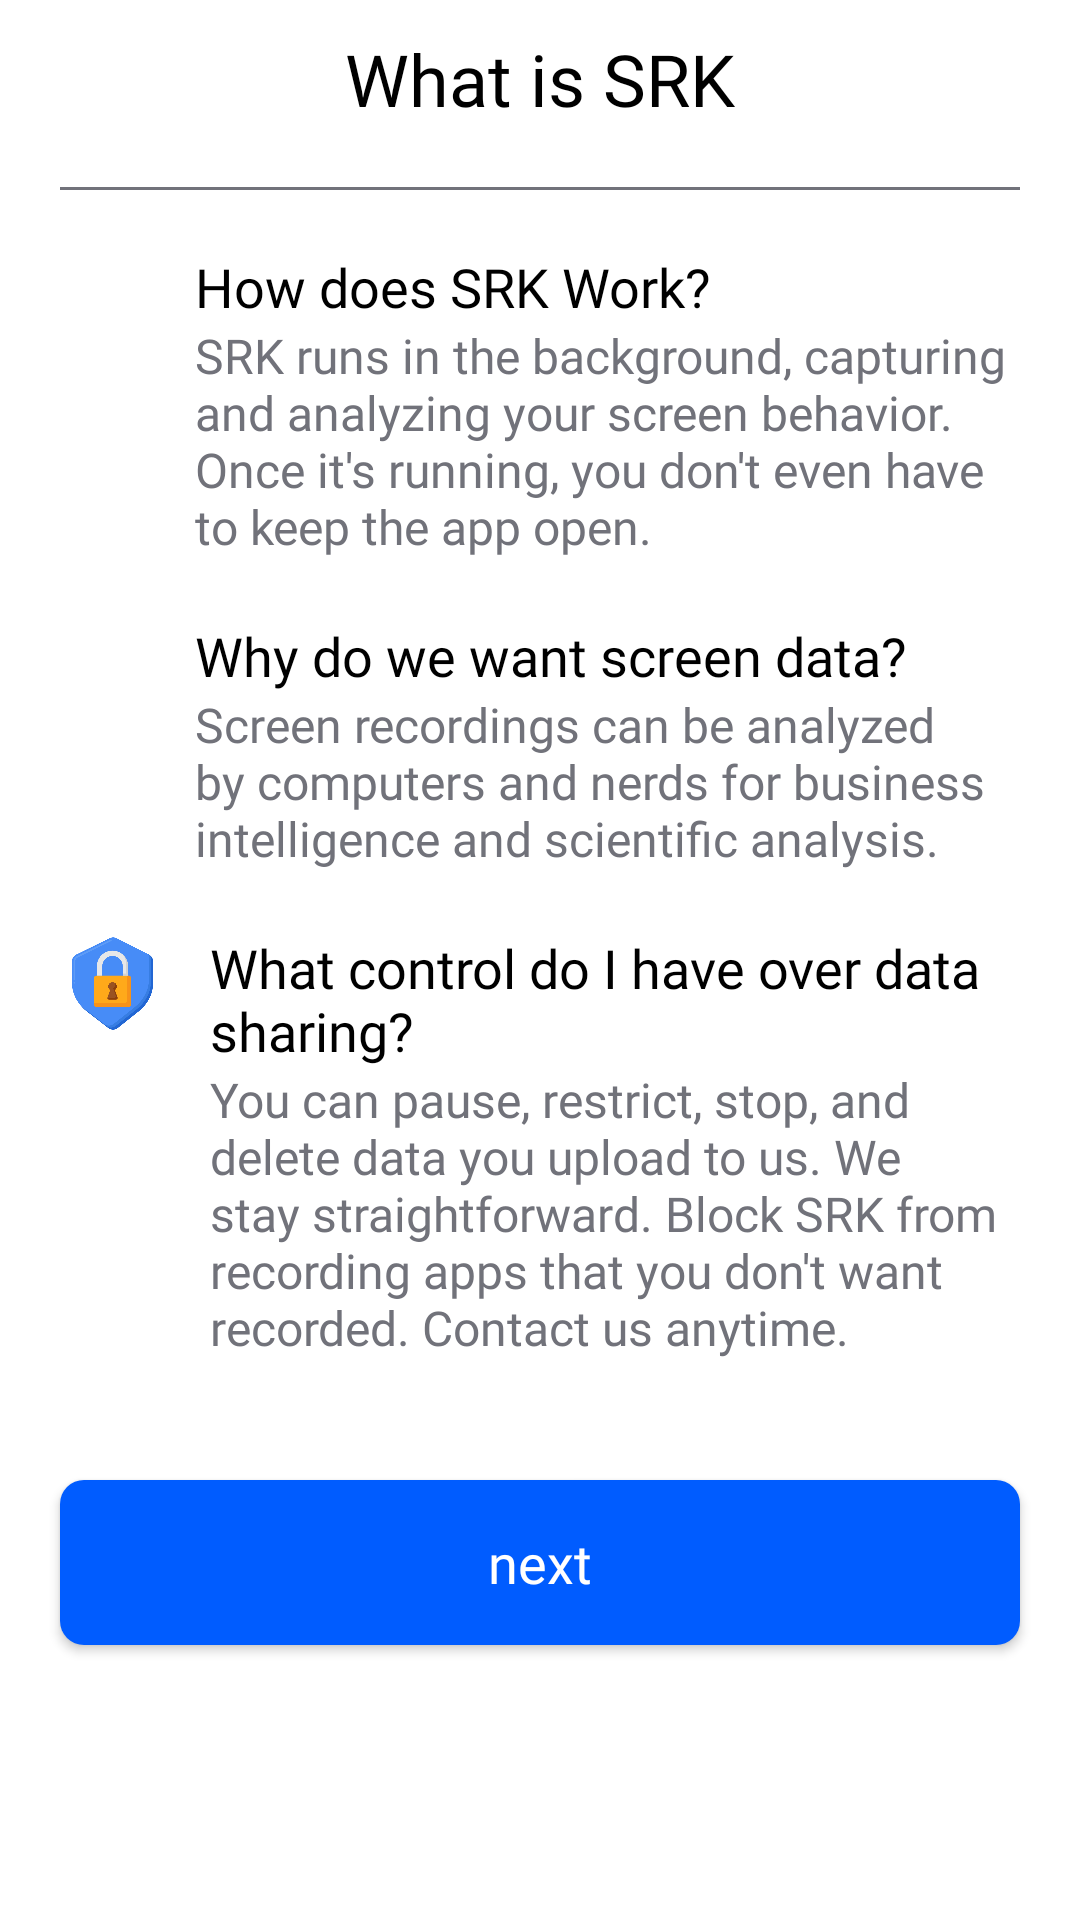

Where icons sit on this 1080 × 1920 app screen, as detection(x1, y1, x2, y2):
privacy: detection(72, 937, 153, 1030)
